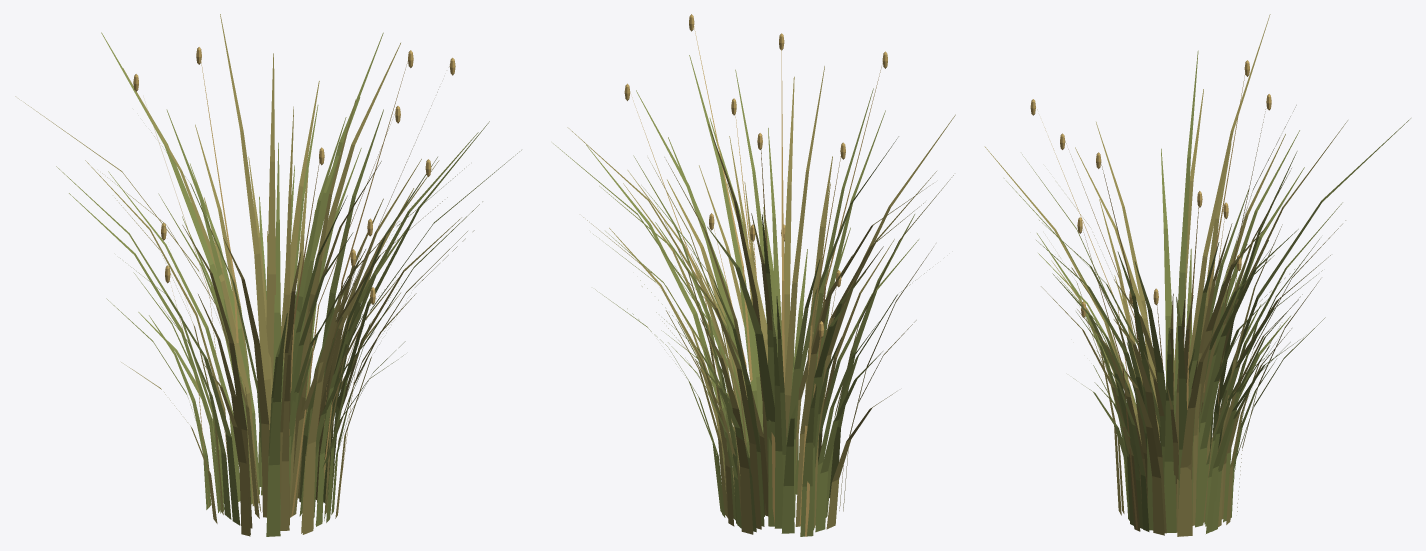
File: prairie_bunchgrass_v2.glb
The picture shows the model from 3 angles, left to right: view 1: azimuth 30°, elevation 25°; view 2: azimuth 150°, elevation 25°; view 3: azimuth 270°, elevation 25°; orthographic projection. The views are drawn at different scales.
Visible parts, largest first — view 1: prairie_bunchgrass_v2; view 2: prairie_bunchgrass_v2; view 3: prairie_bunchgrass_v2.
Boxes of the visible parts, x1,y1,x2,y2 form: prairie_bunchgrass_v2: (15, 14, 521, 536); prairie_bunchgrass_v2: (553, 14, 955, 536); prairie_bunchgrass_v2: (984, 14, 1410, 536).
Bounding box in the file's own units: 0.9444 × 0.9842 × 0.9035.
